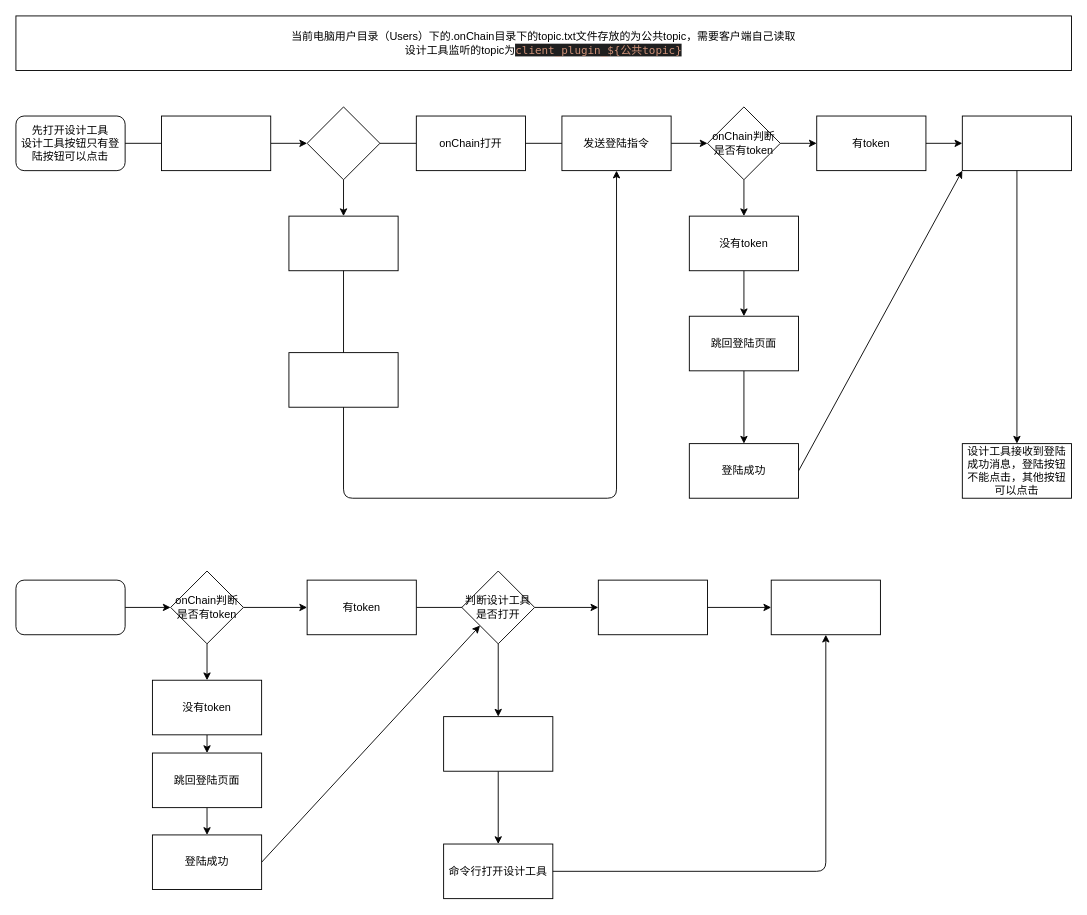
The diagram is 1087 pixels wide and 915 high, and some of its shapes have lost their labels. Here are the shapes that lost their labels. From the top down, the centre of each, then its label:
the point at 216,143: 点击登陆 发送登陆指令
the point at 343,143: 判断当前onchainApp是否打开
the point at 1016,143: onChain发送登陆成功的消息
the point at 343,243: onChain没打开
the point at 343,379: 通过命令行打开onChain
the point at 70,607: 先打开onChain
the point at 652,607: 设计工具打开
the point at 825,607: 发送消息登陆成功
the point at 498,743: 设计工具没打开
